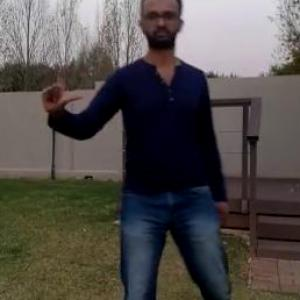land_hand: (38, 63, 86, 118)
